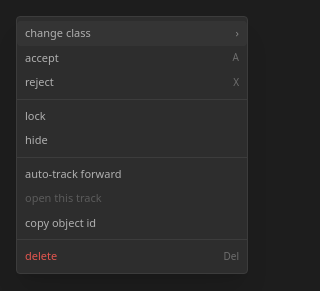
Test: what it acts on › change class opens the class list rather than firing straight away
Click the menu item "change class ›" at {"x": 132, "y": 33}, box [17,21,247,46]
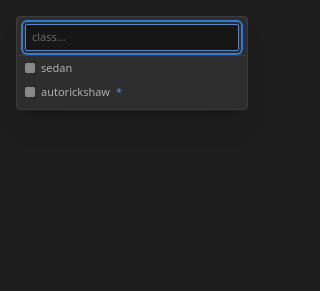
Expected: the field named "choose a class" is shown, [25,24,239,50]
